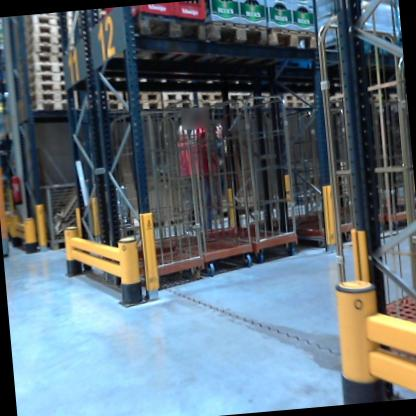forklift: (0, 104, 18, 265)
pallet: (110, 11, 207, 78), (186, 15, 272, 69), (263, 18, 331, 60), (16, 68, 78, 92), (20, 77, 77, 98), (22, 48, 73, 70), (22, 97, 84, 115), (20, 12, 73, 33), (25, 87, 79, 107), (17, 59, 73, 76), (24, 21, 72, 39), (25, 32, 71, 47), (159, 99, 196, 117), (84, 99, 125, 114), (22, 42, 70, 54), (123, 100, 166, 113), (195, 88, 228, 104), (162, 87, 195, 102), (123, 90, 162, 102), (226, 88, 253, 103), (87, 90, 123, 100), (197, 101, 229, 112), (225, 101, 254, 113)
stillage: (34, 173, 112, 251)
